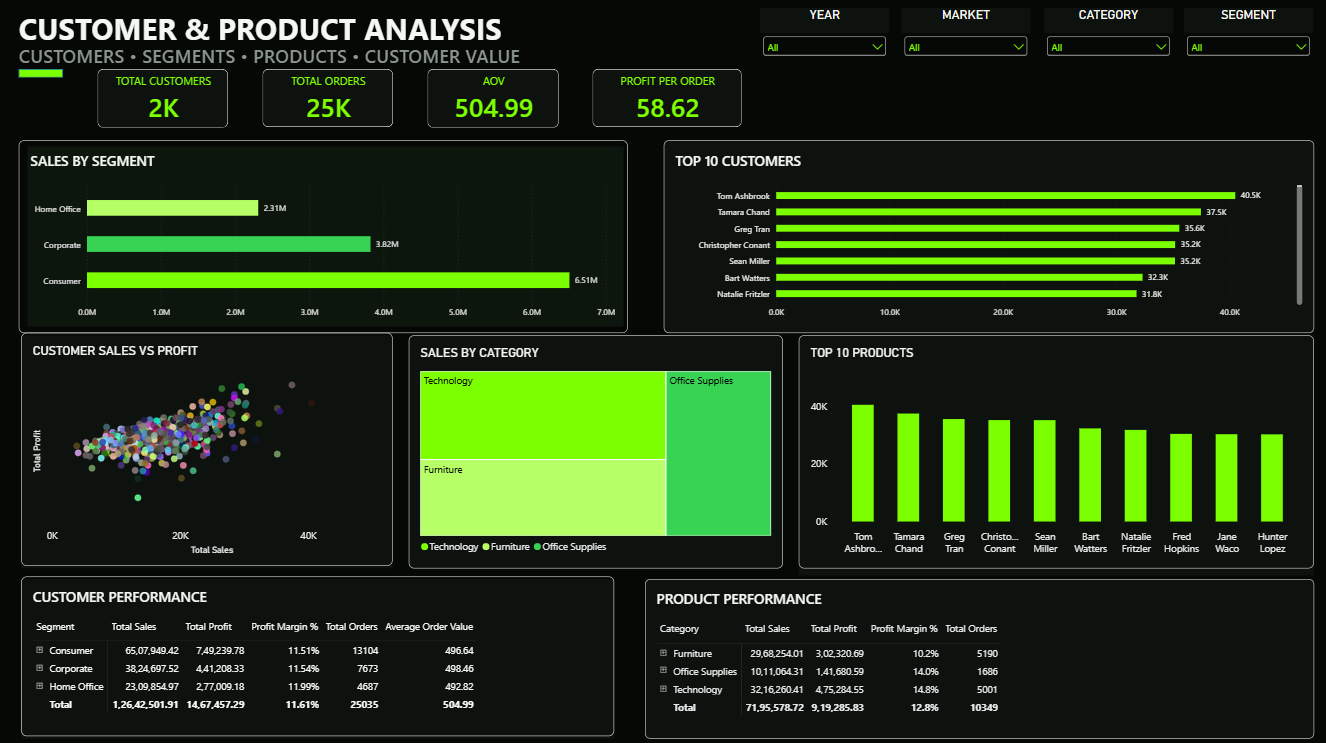

What the dashboard file says about the page in this screenshot:
{"tool":"powerbi","page":{"name":"04 Customer & Product","canvas":[1920,1080],"ordinal":3},"visuals":[{"type":"shape","box":[933.3,839.6,968.8,231.2],"z":0},{"type":"shape","box":[1156.2,487.5,745.8,347.9],"z":1000},{"type":"shape","box":[591.7,487.5,541.7,337.5],"z":2000},{"type":"textbox","box":[26.8,63.8,1130,49.4],"z":4000},{"type":"shape","box":[26.8,100.9,63.8,12.3],"z":5000},{"type":"slicer","title":"YEAR","fields":{"Values":["DateTable.Year"]},"box":[1100,12.5,187.5,145.8],"z":6000},{"type":"slicer","title":"MARKET","fields":{"Values":["Orders.Market"]},"box":[1304.2,12.5,187.5,145.8],"z":7000},{"type":"cardVisual","fields":{"Data":["_Measures.Total Customers"]},"box":[140.3,100.9,189.6,85.4],"z":8000},{"type":"cardVisual","fields":{"Data":["_Measures.Total Orders"]},"box":[379.6,100.9,189.4,84.4],"z":9000},{"type":"cardVisual","fields":{"Data":["_Measures.Average Order Value"]},"box":[618.6,100.9,190,85],"z":10000},{"type":"shape","box":[960.4,204.2,941.7,279.2],"z":12000},{"type":"treemap","title":"SALES BY CATEGORY","fields":{"Group":["Orders.Category"],"Values":["_Measures.Total Sales"]},"box":[591.7,487.5,541.7,337.5],"z":13000},{"type":"clusteredBarChart","title":"TOP 10 CUSTOMERS","fields":{"Category":["Orders.Customer Name"],"Y":["_Measures.Total Sales"]},"box":[960.4,204.2,941.7,279.2],"z":14000},{"type":"shape","box":[31.2,487.5,537.5,337.5],"z":16000},{"type":"scatterChart","title":"CUSTOMER SALES VS PROFIT","fields":{"Y":["_Measures.Total Profit"],"X":["_Measures.Total Sales"],"Series":["Orders.Customer Name"]},"box":[31.2,483.3,537.5,337.5],"z":17000},{"type":"cardVisual","fields":{"Data":["_Measures.Profit per Order"]},"box":[858.3,100.9,216.1,84.4],"z":18000},{"type":"slicer","title":"CATEGORY","fields":{"Values":["Orders.Category"]},"box":[1510.4,12.5,187.5,145.8],"z":19000},{"type":"slicer","title":"SEGMENT","fields":{"Values":["Orders.Segment"]},"box":[1714.6,12.5,187.5,145.8],"z":20000},{"type":"clusteredColumnChart","title":"TOP 10 PRODUCTS","fields":{"Y":["_Measures.Total Sales"],"Category":["Orders.Customer Name"]},"box":[1156.2,487.5,745.8,337.5],"z":21000},{"type":"shape","box":[31.2,204.2,881.2,279.2],"z":23000},{"type":"clusteredBarChart","title":"SALES BY SEGMENT","fields":{"Y":["_Measures.Total Sales"],"Category":["Orders.Segment"]},"box":[27.1,204.2,881.2,279.2],"z":24000},{"type":"pivotTable","title":"PRODUCT PERFORMANCE","fields":{"Rows":["Orders.Category","Orders.Sub-Category","Orders.Product Name"],"Values":["_Measures.Total Sales","_Measures.Total Profit","_Measures.Profit Margin %","_Measures.Total Orders"]},"box":[933.3,839.6,968.8,231.2],"z":25000},{"type":"shape","box":[31.2,839.6,858.3,231.2],"z":26000},{"type":"pivotTable","title":"CUSTOMER PERFORMANCE","fields":{"Values":["_Measures.Total Sales","_Measures.Total Profit","_Measures.Profit Margin %","_Measures.Total Orders","_Measures.Average Order Value"],"Rows":["Orders.Segment","Orders.Customer Name"]},"box":[31.2,835.4,858.3,231.2],"z":27000},{"type":"textbox","box":[27.1,12.5,752.1,87.5],"z":28000}]}

Visuals, with their boxes in screenshot pixels (x1, y1, x2, y2), scaled from the page's 1920x1080 canvas onto the 1326x743 screenshot:
shape: box=[645, 578, 1314, 737]
shape: box=[799, 335, 1314, 575]
shape: box=[409, 335, 783, 568]
textbox: box=[19, 44, 799, 78]
shape: box=[19, 69, 63, 78]
"YEAR" slicer: box=[760, 9, 889, 109]
"MARKET" slicer: box=[901, 9, 1030, 109]
cardVisual - _Measures.Total Customers: box=[97, 69, 228, 128]
cardVisual - _Measures.Total Orders: box=[262, 69, 393, 127]
cardVisual - _Measures.Average Order Value: box=[427, 69, 558, 128]
shape: box=[663, 140, 1314, 333]
"SALES BY CATEGORY" treemap: box=[409, 335, 783, 568]
"TOP 10 CUSTOMERS" clusteredBarChart: box=[663, 140, 1314, 333]
shape: box=[22, 335, 393, 568]
"CUSTOMER SALES VS PROFIT" scatterChart: box=[22, 332, 393, 565]
cardVisual - _Measures.Profit per Order: box=[593, 69, 742, 127]
"CATEGORY" slicer: box=[1043, 9, 1173, 109]
"SEGMENT" slicer: box=[1184, 9, 1314, 109]
"TOP 10 PRODUCTS" clusteredColumnChart: box=[799, 335, 1314, 568]
shape: box=[22, 140, 630, 333]
"SALES BY SEGMENT" clusteredBarChart: box=[19, 140, 627, 333]
"PRODUCT PERFORMANCE" pivotTable: box=[645, 578, 1314, 737]
shape: box=[22, 578, 614, 737]
"CUSTOMER PERFORMANCE" pivotTable: box=[22, 575, 614, 734]
textbox: box=[19, 9, 538, 69]
